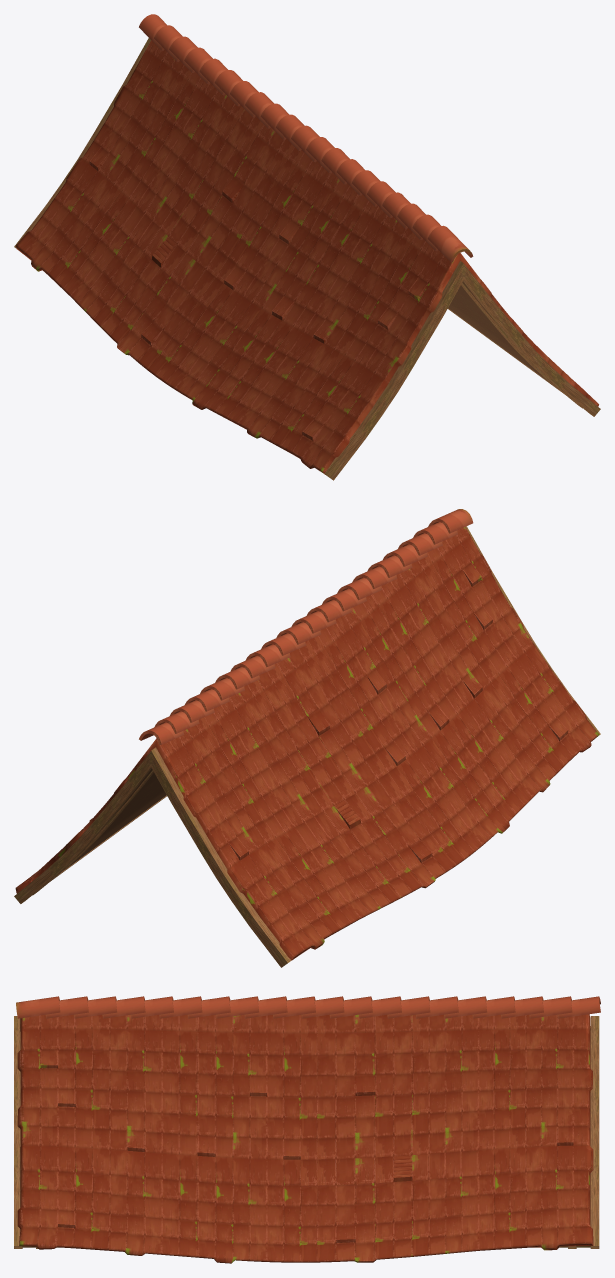
Rendered from Roof_FlatTiles_6x14.gltf.
The picture shows the model from 3 angles, top to bottom: view 1: azimuth 30°, elevation 25°; view 2: azimuth 150°, elevation 25°; view 3: azimuth 270°, elevation 25°; orthographic projection. The views are drawn at different scales.
Visible parts, largest first — view 1: Roof_FlatTiles_6x14; view 2: Roof_FlatTiles_6x14; view 3: Roof_FlatTiles_6x14.
Part boxes in pixels (x1,y1,x2,y2): Roof_FlatTiles_6x14: (14,14,600,480); Roof_FlatTiles_6x14: (14,509,600,967); Roof_FlatTiles_6x14: (14,996,600,1263).
Size of the model in its own units: 8.98 by 5.78 by 15.71.
Materials: 3 (3 with a texture image).
